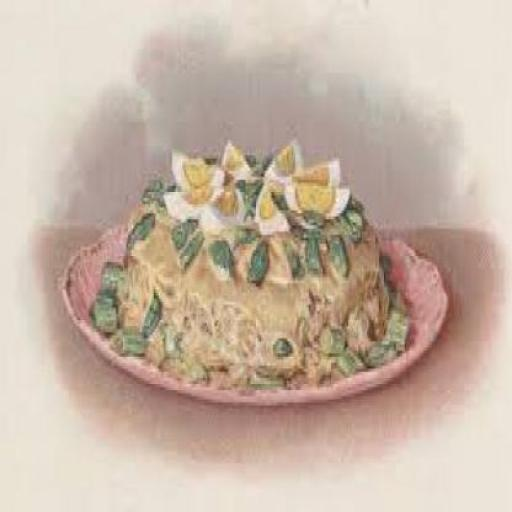biodegradable: (90, 137, 410, 390), (282, 177, 352, 222), (171, 149, 225, 189), (261, 136, 300, 186), (162, 183, 218, 216), (252, 183, 287, 232), (200, 183, 242, 222), (282, 156, 340, 182), (220, 134, 252, 180), (125, 210, 157, 250), (175, 226, 205, 268), (242, 234, 268, 280), (324, 235, 352, 277), (207, 235, 234, 275), (382, 304, 409, 342), (112, 323, 144, 354), (140, 287, 162, 332), (364, 336, 396, 362), (96, 259, 126, 286), (94, 299, 124, 326), (303, 232, 322, 274), (321, 323, 345, 356), (142, 174, 168, 204), (344, 192, 364, 229), (88, 292, 114, 317), (336, 348, 361, 374), (170, 210, 192, 238), (386, 278, 408, 304), (377, 240, 392, 274), (242, 182, 256, 214), (248, 150, 270, 168), (272, 332, 288, 351)
